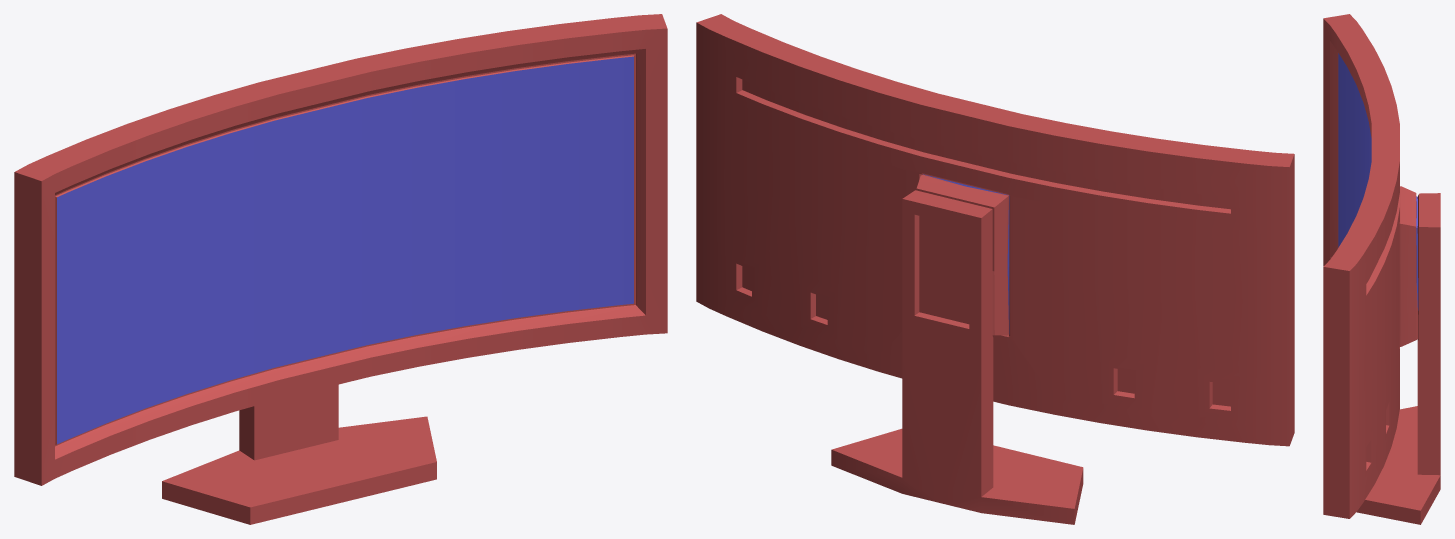
Rendered from comp screen high.fbx.
3 views of the same model, side by side, from view 1: azimuth 30°, elevation 25°; view 2: azimuth 150°, elevation 25°; view 3: azimuth 270°, elevation 25° (orthographic). The views are drawn at different scales.
Visible parts, largest first — view 1: screen_high1; view 2: screen_high1; view 3: screen_high1.
Boxes of the visible parts, x1,y1,x2,y2 form: screen_high1: [14, 14, 667, 524]; screen_high1: [696, 14, 1294, 524]; screen_high1: [1323, 14, 1440, 524].
Bounding box in the file's own units: 48.44 × 28.97 × 9.34.
